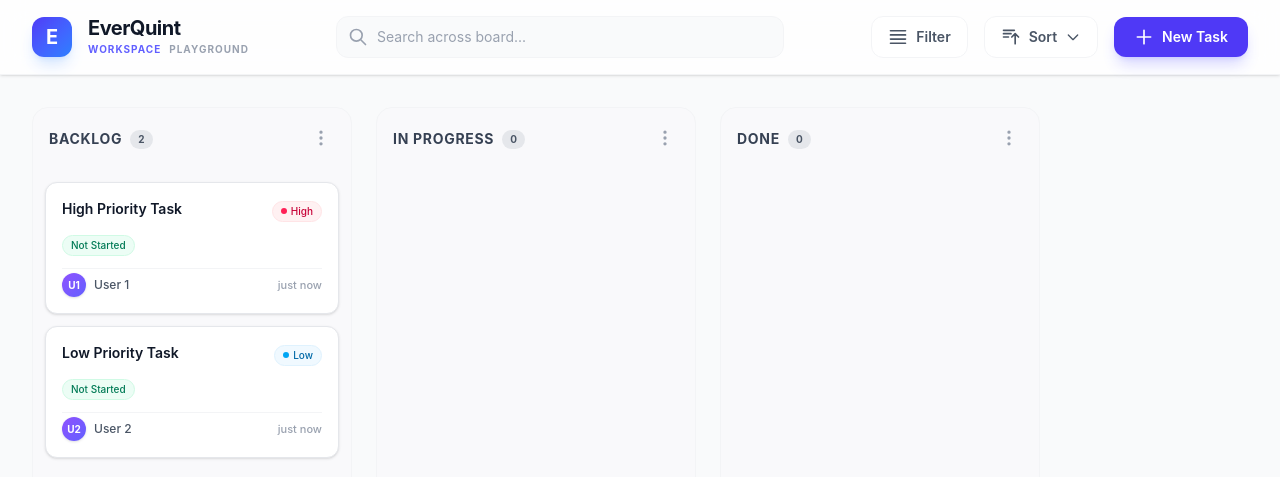
Scenario: UI Behavior: Task Filtering › should filter tasks by priority
expect the heading "High Priority Task" is shown: met, box [62,199,182,218]
expect the heading "Low Priority Task" is shown: met, box [62,343,179,362]
# Open Filter
Click the button "Filter" at (920, 37), box [871,16,968,58]
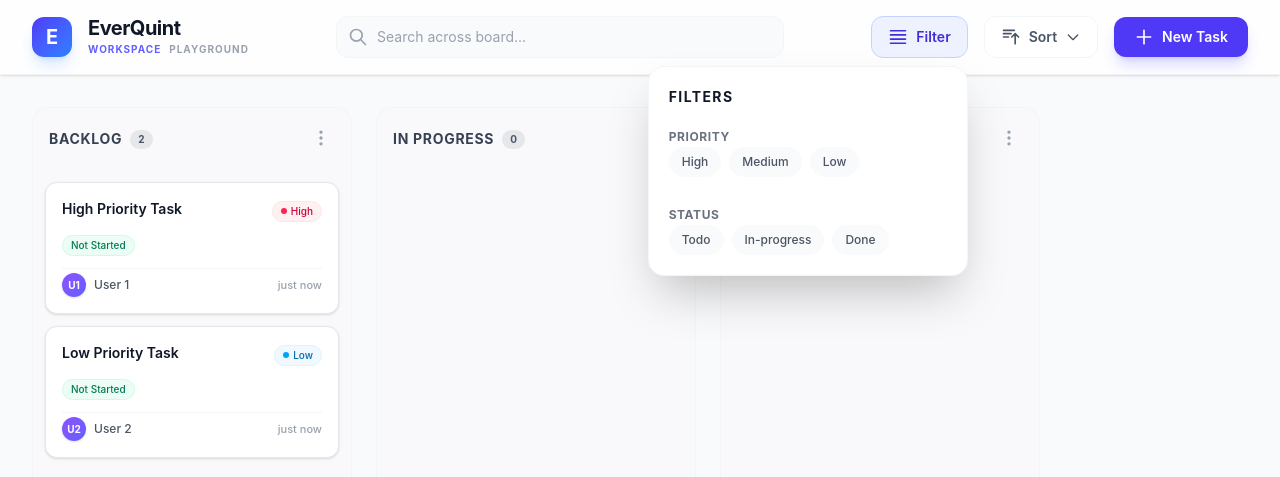
# Select 'High' priority filter button
Click the button "High" at (695, 162), box [669,147,721,177]
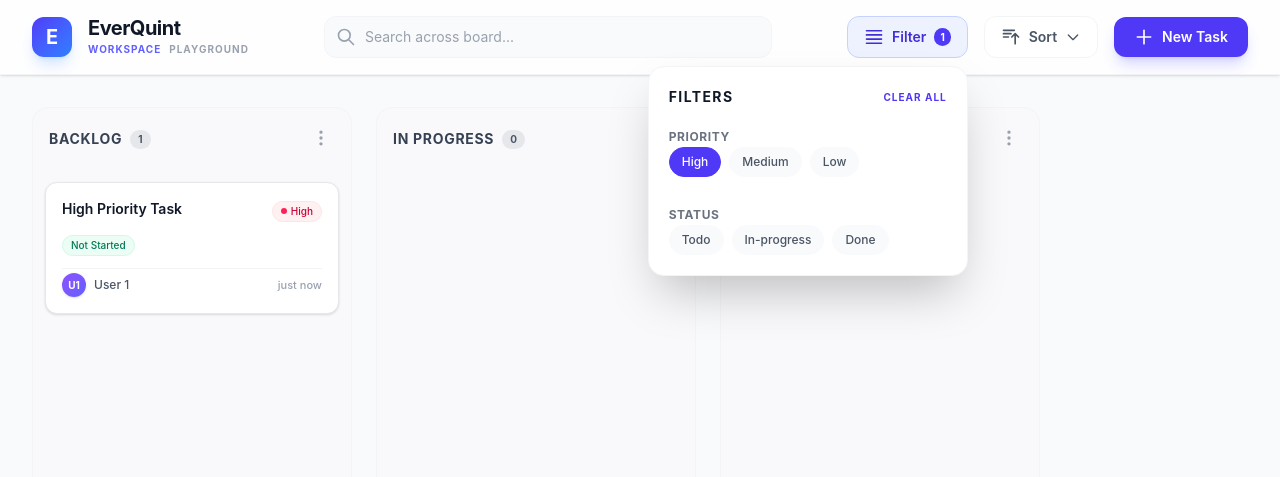
expect the heading "High Priority Task" is shown: met, box [62,199,182,218]
expect the heading "Low Priority Task" is gone: met
